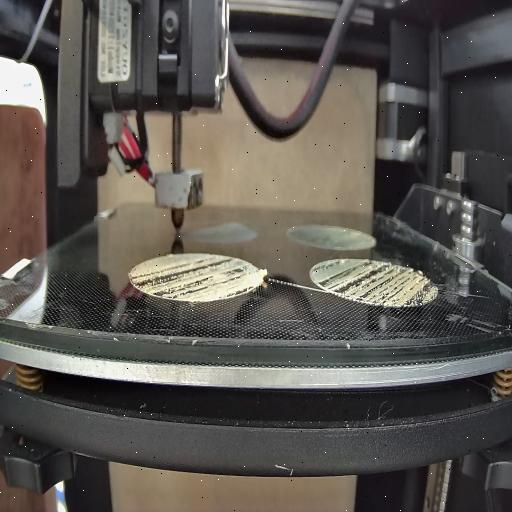under_extrusion: (310, 259, 434, 306), (131, 256, 253, 302)
